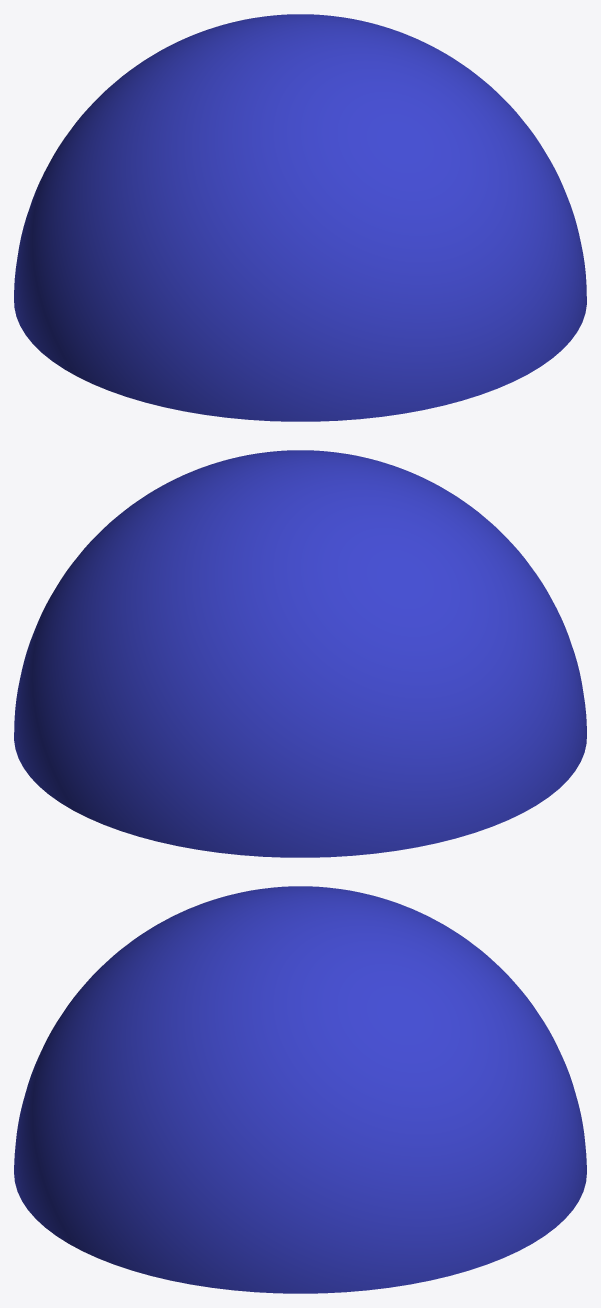
The model's file is Hemisphere.fbx.
3 views of the same model, one above another, from view 1: azimuth 30°, elevation 25°; view 2: azimuth 150°, elevation 25°; view 3: azimuth 270°, elevation 25° (orthographic).
Visible parts, largest first — view 1: root; view 2: root; view 3: root.
Part boxes in pixels (<box>): root: <box>14,14,586,421</box>; root: <box>14,450,586,857</box>; root: <box>14,886,586,1293</box>.
Bounding box in the file's own units: 40.43 × 20.2 × 40.43.
